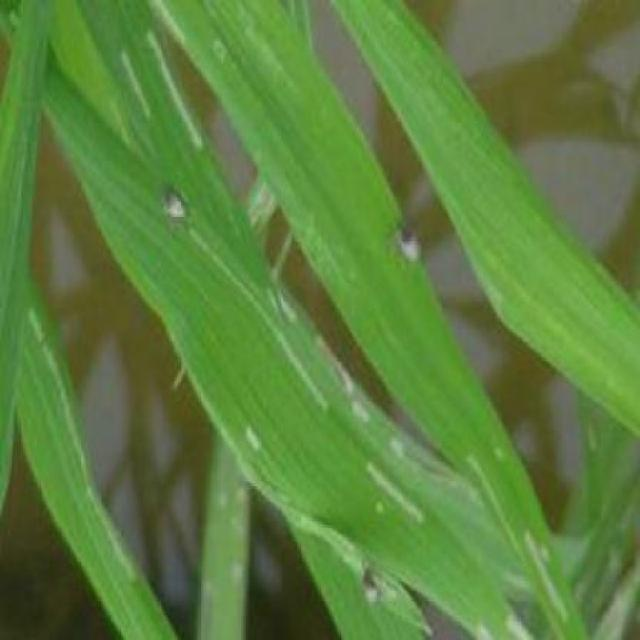rice-bug: (392, 222, 426, 264), (160, 188, 189, 223), (360, 566, 377, 602)
